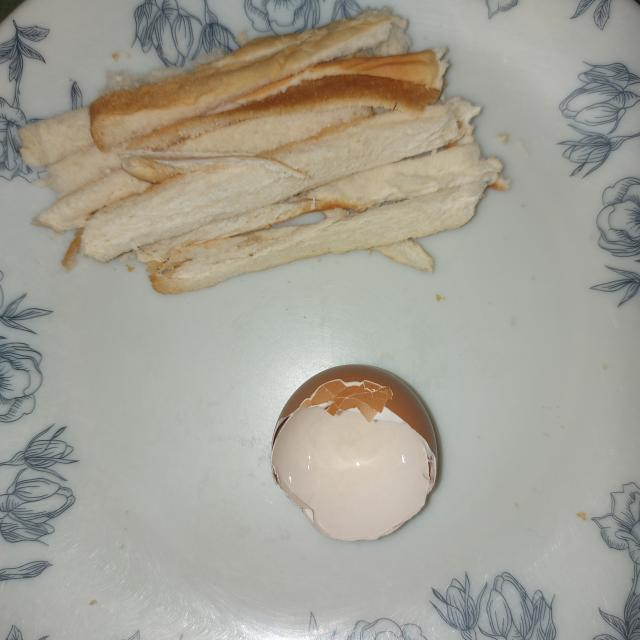egg shell: (264, 358, 446, 546)
